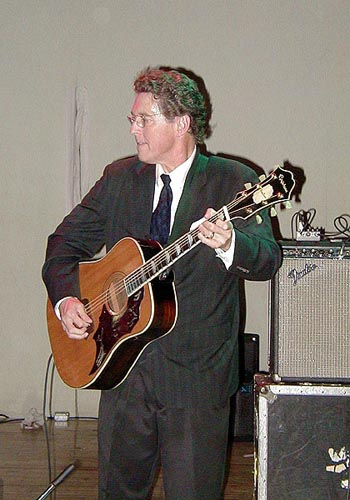guitar: (44, 165, 302, 390)
